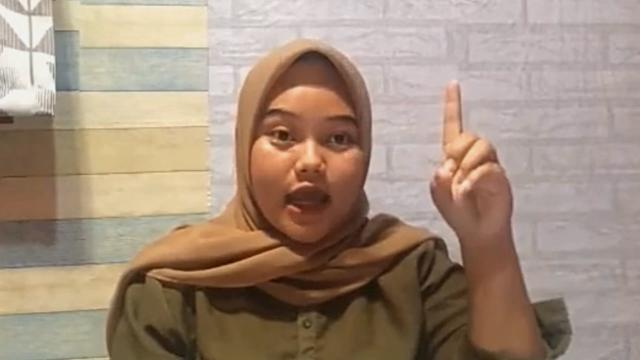D: (429, 77, 517, 231)
